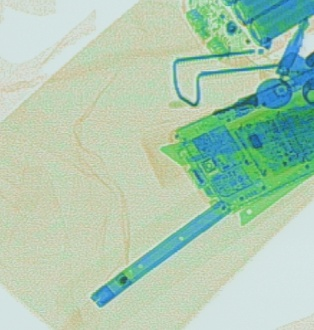knife: (160, 103, 312, 180), (237, 165, 311, 225)
powerbank: (176, 0, 312, 65)
